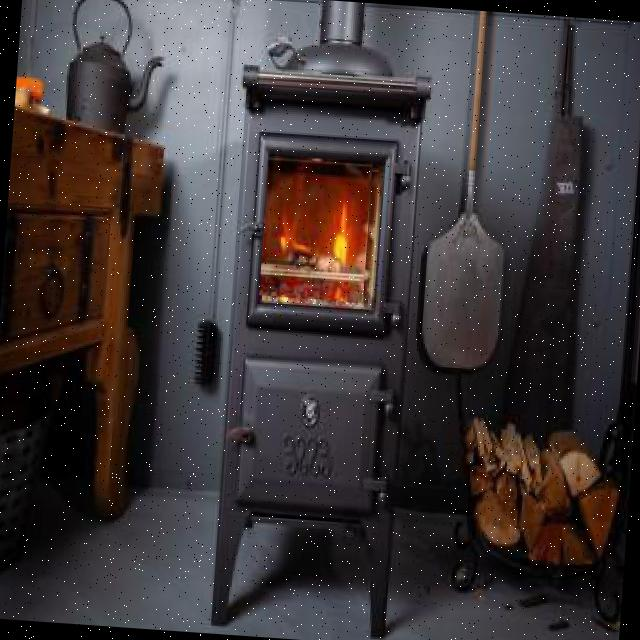fire: (258, 154, 372, 302)
